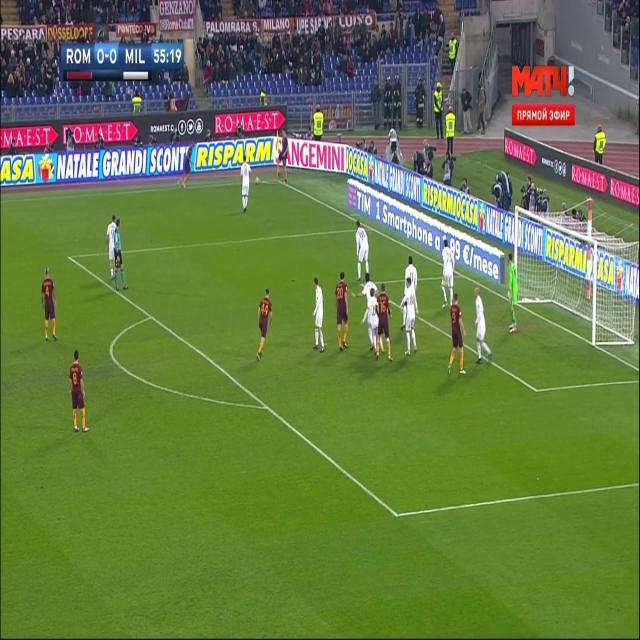Ball: (253, 174, 261, 186)
Goalkeeper: (506, 249, 520, 334)
Player: (443, 292, 468, 379), (472, 284, 495, 368), (68, 349, 90, 435), (253, 287, 274, 364), (400, 278, 419, 358), (376, 287, 394, 363), (40, 264, 57, 344), (335, 270, 350, 356), (439, 238, 456, 310), (354, 219, 371, 285), (313, 276, 326, 358), (275, 129, 293, 185), (239, 154, 254, 215), (105, 213, 116, 280), (369, 289, 379, 353), (350, 275, 379, 297), (402, 253, 417, 281)
Referee: (113, 218, 129, 296)
